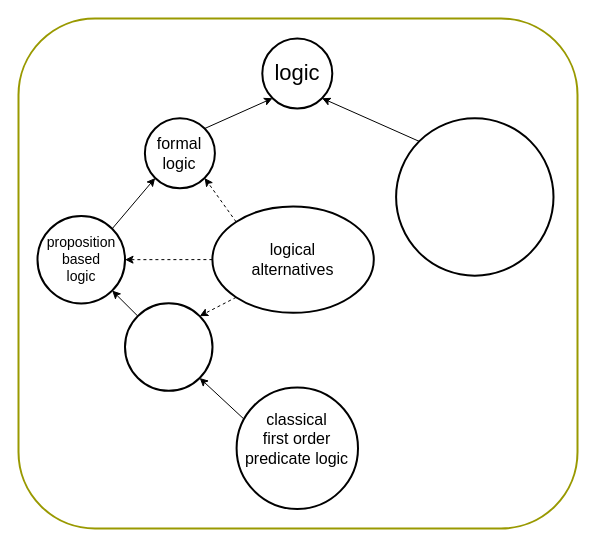
This 595x546 diagram has some shape labels left out. The shapes that lost their labels are listed below. From the top down, each one's centre as x and y in pixels, then its label:
the point at 474,196: general logic
the point at 168,346: predicate based logic
